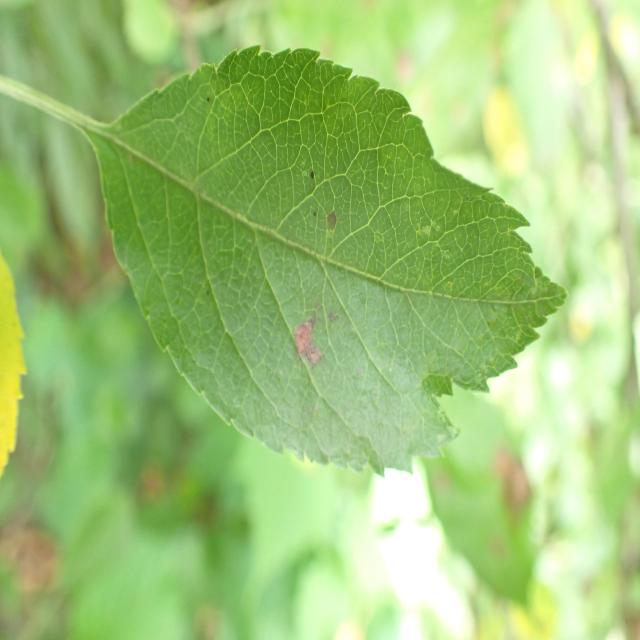Black Rot: (290, 296, 343, 382)
